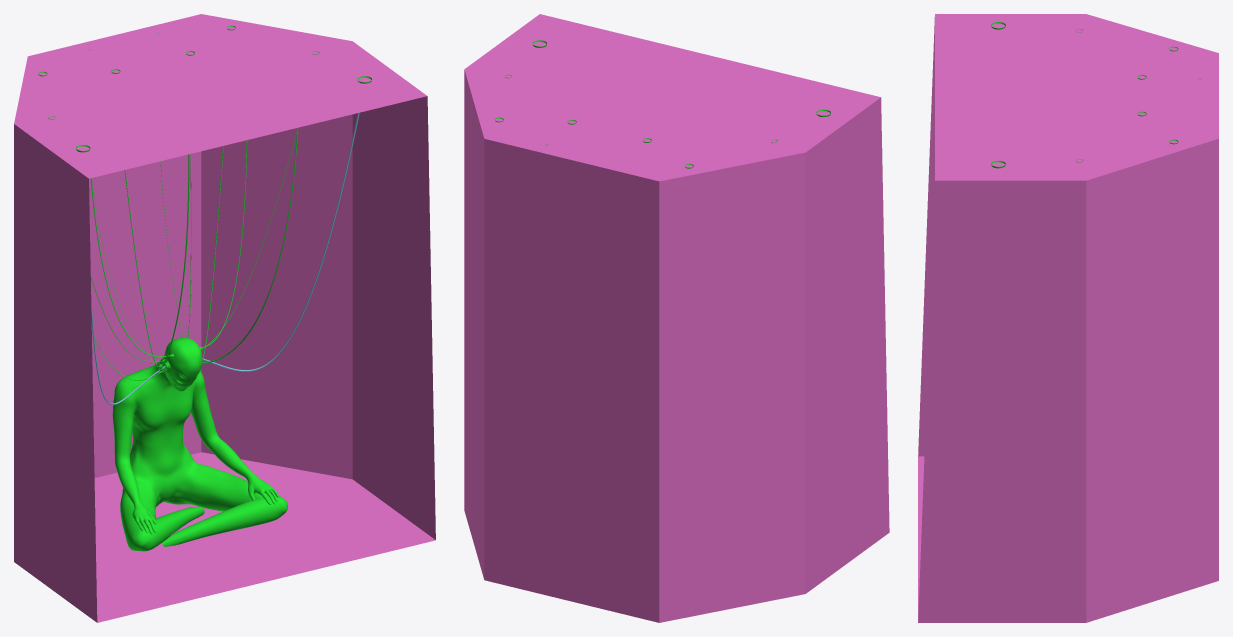
Rendered from statue.fbx.
3 views of the same model, side by side, from view 1: azimuth 30°, elevation 25°; view 2: azimuth 150°, elevation 25°; view 3: azimuth 270°, elevation 25° (orthographic).
Parts seen in each view (by area): view 1: walls, statue_low, wire2_low, wire3_low, wire1_low; view 2: walls; view 3: walls.
Boxes of the visible parts, box(x1,y1,x2,y2) form: walls: box(14, 14, 435, 622); statue_low: box(112, 338, 287, 551); wire2_low: box(91, 112, 359, 404); wire3_low: box(156, 128, 298, 375); wire1_low: box(90, 140, 247, 357); walls: box(464, 14, 889, 622); walls: box(918, 14, 1218, 622).
Size of the model in its own units: 25589 by 32045 by 19500.
